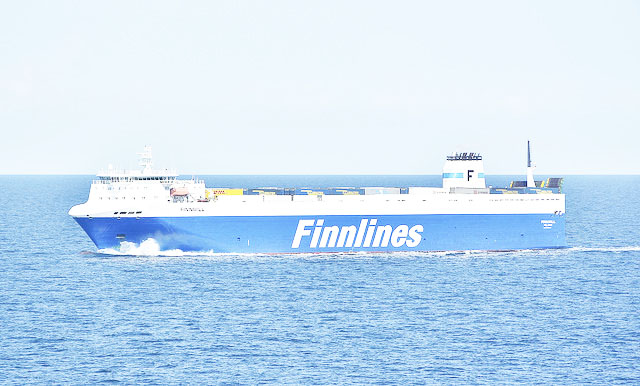PCC: (68, 150, 570, 255)
